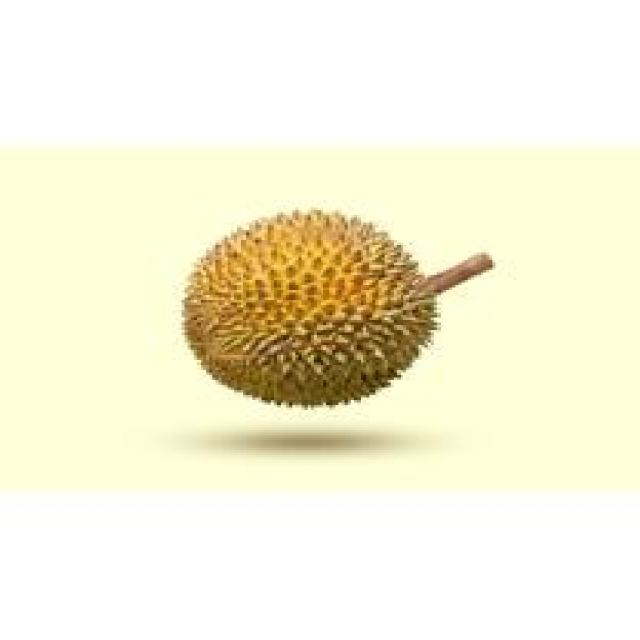fruit: (163, 185, 455, 430)
